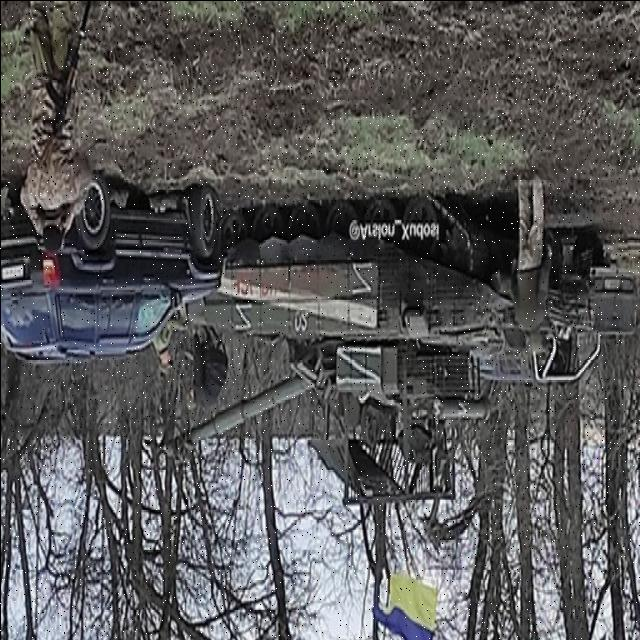CAR: (0, 180, 222, 362), (463, 229, 638, 387)
TANK: (160, 196, 579, 512)
